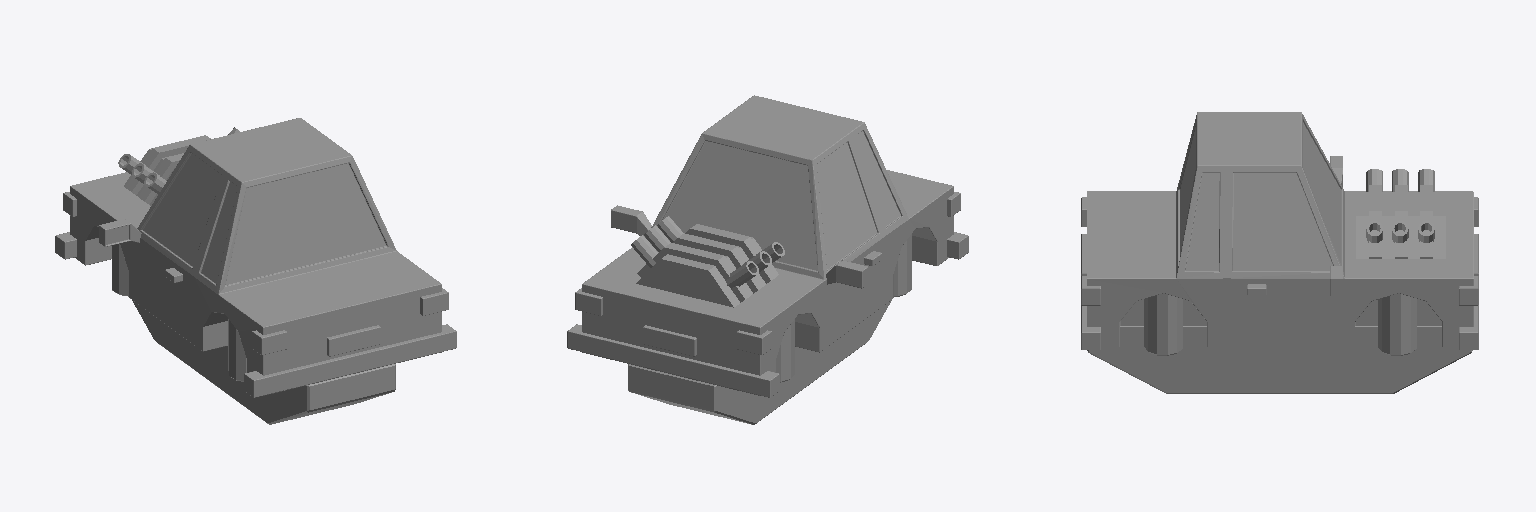
File: buggy.obj
3 views of the same model, side by side, from view 1: azimuth 30°, elevation 25°; view 2: azimuth 150°, elevation 25°; view 3: azimuth 270°, elevation 25° (orthographic).
Parts seen in each view (by area): view 1: Car_Regular_Car_Regular; view 2: Car_Regular_Car_Regular; view 3: Car_Regular_Car_Regular.
Part boxes in pixels (x1,y1,x2,y2): Car_Regular_Car_Regular: (55, 118, 456, 424); Car_Regular_Car_Regular: (567, 95, 968, 424); Car_Regular_Car_Regular: (1081, 112, 1478, 393).
Bounding box in the file's own units: 282 × 251 × 385.